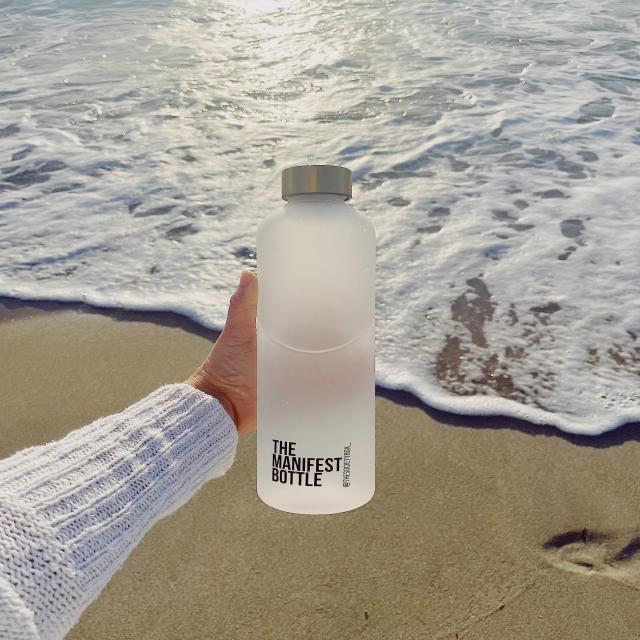gym bottle: (251, 162, 382, 516)
